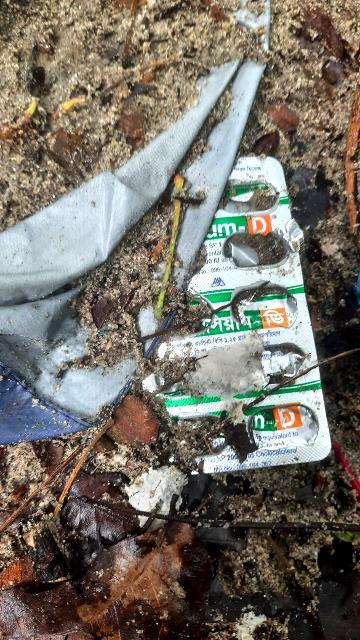medicine: (143, 157, 331, 485)
